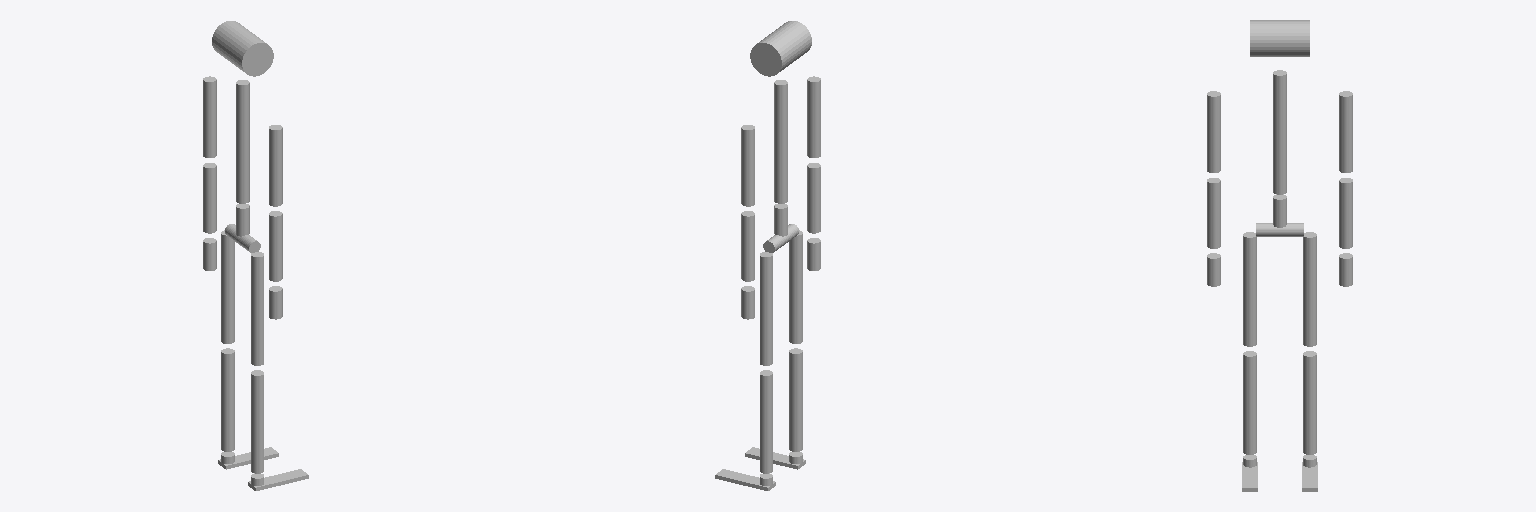
--- Render facts (derived) ---
Views: 3 orthographic renders of the robot side by side, from view 1: azimuth 30°, elevation 25°; view 2: azimuth 150°, elevation 25°; view 3: azimuth 270°, elevation 25°.
Robot: atlas — 36 links, 35 joints (27 revolute, 8 fixed); root link base_link; default pose: every joint at zero.
Visible links, largest first — view 1: NeckPitch_link, Torso, LHipRoll_link, RHipRoll_link, LKneePitch_link, RKneePitch_link, RShoulderRoll_link, LShoulderRoll_link, RElbowPitch_link, LElbowPitch_link, RFoot; view 2: NeckPitch_link, Torso, RHipRoll_link, LHipRoll_link, RKneePitch_link, LKneePitch_link, LShoulderRoll_link, RShoulderRoll_link, LElbowPitch_link, RElbowPitch_link, LFoot; view 3: NeckPitch_link, Torso, LHipRoll_link, RHipRoll_link, LKneePitch_link, RKneePitch_link, LShoulderRoll_link, RShoulderRoll_link, LElbowPitch_link, RElbowPitch_link, Pelvis-link2.
Boxes of the visible links, x1,y1,x2,y2 form: NeckPitch_link: (212, 21, 273, 76); Torso: (236, 80, 249, 203); LHipRoll_link: (221, 230, 234, 343); RHipRoll_link: (251, 252, 263, 365); LKneePitch_link: (221, 348, 234, 451); RKneePitch_link: (251, 370, 263, 473); RShoulderRoll_link: (269, 125, 282, 206); LShoulderRoll_link: (203, 76, 216, 157); RElbowPitch_link: (269, 211, 282, 281); LElbowPitch_link: (203, 163, 216, 233); RFoot: (248, 469, 308, 490); NeckPitch_link: (750, 21, 811, 76); Torso: (774, 80, 787, 203); RHipRoll_link: (789, 230, 802, 343); LHipRoll_link: (760, 252, 772, 365); RKneePitch_link: (789, 348, 802, 451); LKneePitch_link: (760, 370, 772, 473); LShoulderRoll_link: (741, 125, 754, 206); RShoulderRoll_link: (807, 76, 820, 157); LElbowPitch_link: (741, 211, 754, 281); RElbowPitch_link: (807, 163, 820, 233); LFoot: (715, 469, 775, 490); NeckPitch_link: (1250, 20, 1309, 56); Torso: (1273, 70, 1286, 194); LHipRoll_link: (1303, 232, 1316, 346); RHipRoll_link: (1243, 232, 1256, 346); LKneePitch_link: (1303, 351, 1316, 454); RKneePitch_link: (1243, 351, 1256, 454); LShoulderRoll_link: (1339, 91, 1352, 172); RShoulderRoll_link: (1207, 91, 1220, 172); LElbowPitch_link: (1339, 178, 1352, 248); RElbowPitch_link: (1207, 178, 1220, 248); Pelvis-link2: (1256, 223, 1303, 236).
Size in the robot's own frame: 0.2662 by 0.5321 by 1.79 metres.
Geometry: primitives only (box / cylinder / sphere), no mesh files.

The robot description file, URDF, robot "atlas":
<?xml version="1.0" ?>
<!-- =================================================================================== -->
<!-- |    This document was autogenerated by xacro from atlas_robot_pre_fuerte.urdf.xacro | -->
<!-- |    EDITING THIS FILE BY HAND IS NOT RECOMMENDED                                 | -->
<!-- =================================================================================== -->
<robot name="atlas" xmlns:controller="http://playerstage.sourceforge.net/gazebo/xmlschema/#controller" xmlns:interface="http://playerstage.sourceforge.net/gazebo/xmlschema/#interface" xmlns:sensor="http://playerstage.sourceforge.net/gazebo/xmlschema/#sensor" xmlns:xacro="http://ros.org/wiki/xacro">
  <!--
  ROS urdf definition of Atlas humanoid robot from Boston Dynamics. Represents the kinematic structure of the robot which is based on the 50th percentile male anthropometry,. 

This file has been based upon a similar urdf file for the Nao humanoid robot (by Aldebaran Robotics) provided in the Nao-Stack of University of Freiburg (Authors: Armin Hornung, Stefan Osswald) which is available at: is available at: http://code.google.com/p/alufr-ros-pkg/.

  Joint names and properties are according to the Boston Dynamics Slide during DRC proposers day talk.
  -->
  <material name="LightGrey">
    <color rgba="0.8 0.8 0.8 1.0"/>
  </material>
  <material name="Grey">
    <color rgba="0.6 0.6 0.6 1.0"/>
  </material>
  <material name="DarkGrey">
    <color rgba="0.3 0.3 0.3 1.0"/>
  </material>
  <material name="Black">
    <color rgba="0.1 0.1 0.1 1.0"/>
  </material>
  <link name="base_link">
    <inertial>
      <origin rpy="0 0 0" xyz="0 0 0"/>
      <mass value="0.01"/>
      <inertia ixx="0.0001" ixy="0.0" ixz="0.0" iyy="0.0001" iyz="0.0" izz="0.0001"/>
    </inertial>
  </link>
  <link name="Back">
    <inertial>
      <origin rpy="0 0 0" xyz="0 0 0"/>
      <mass value="0.01"/>
      <inertia ixx="0.0001" ixy="0.0" ixz="0.0" iyy="0.0001" iyz="0.0" izz="0.0001"/>
    </inertial>
  </link>
  <link name="Pelvis-link1">
    <inertial>
      <mass value="5.7"/>
      <inertia ixx="0.0335874956091" ixy="0.0" ixz="0.0" iyy="0.0261906364732" iyz="0.0" izz="0.0376870275877"/>
    </inertial>
    <visual>
      <origin rpy="0 0 0" xyz="0 0 -0.076245974"/>
      <geometry>
        <cylinder length="0.112491948" radius="0.025"/>
      </geometry>
      <material name="LightGrey"/>
    </visual>
    <collision>
      <origin rpy="0 0 0" xyz="0 0 -0.076245974"/>
      <geometry>
        <cylinder length="0.152491948" radius="0.025"/>
      </geometry>
    </collision>
  </link>
  <link name="Pelvis-link2">
    <inertial>
      <origin rpy="0 0 0" xyz="0 0 0"/>
      <mass value="0.01"/>
      <inertia ixx="0.0001" ixy="0.0" ixz="0.0" iyy="0.0001" iyz="0.0" izz="0.0001"/>
    </inertial>
    <visual>
      <origin rpy="1.57079632679 0 0" xyz="0 0 0"/>
      <geometry>
        <cylinder length="0.17784564" radius="0.025"/>
      </geometry>
      <material name="LightGrey"/>
    </visual>
    <collision>
      <origin rpy="1.57079632679 0 0" xyz="0 0 0"/>
      <geometry>
        <cylinder length="0.21784564" radius="0.025"/>
      </geometry>
    </collision>
  </link>
  <link name="BackYaw_link">
    <inertial>
      <origin rpy="0 0 0" xyz="0 0 0"/>
      <mass value="0.01"/>
      <inertia ixx="0.0001" ixy="0.0" ixz="0.0" iyy="0.0001" iyz="0.0" izz="0.0001"/>
    </inertial>
  </link>
  <link name="BackPitch_link">
    <inertial>
      <origin rpy="0 0 0" xyz="0 0 0"/>
      <mass value="0.01"/>
      <inertia ixx="0.0001" ixy="0.0" ixz="0.0" iyy="0.0001" iyz="0.0" izz="0.0001"/>
    </inertial>
  </link>
  <link name="BackRoll_link">
    <inertial>
      <origin rpy="0 0 0" xyz="0 0 0"/>
      <mass value="0.01"/>
      <inertia ixx="0.0001" ixy="0.0" ixz="0.0" iyy="0.0001" iyz="0.0" izz="0.0001"/>
    </inertial>
  </link>
  <link name="Torso">
    <!-- assuming the rotational inertia of the torso is of a cuboid -->
    <inertial>
      <mass value="19.267"/>
      <inertia ixx="0.769042349872" ixy="0.0" ixz="0.0" iyy="0.418881944536" iyz="0.0" izz="0.452546488768"/>
    </inertial>
    <visual>
      <origin rpy="0 0 0" xyz="0.0 0.0 0.23927308"/>
      <geometry>
        <cylinder length="0.47854616" radius="0.025"/>
      </geometry>
      <material name="LightGrey"/>
    </visual>
    <collision>
      <origin rpy="0 0 0" xyz="0.0 0.0 0.23927308"/>
      <geometry>
        <box size=" 0.178562 0.4999736 0.47854616"/>
      </geometry>
    </collision>
  </link>
  <link name="NeckYaw_link">
    <inertial>
      <origin rpy="0 0 0" xyz="0 0 0"/>
      <mass value="0.01"/>
      <inertia ixx="0.0001" ixy="0.0" ixz="0.0" iyy="0.0001" iyz="0.0" izz="0.0001"/>
    </inertial>
  </link>
  <link name="NeckPitch_link">
    <inertial>
      <mass value="1.8"/>
      <inertia ixx="0.0106054249402" ixy="0.0" ixz="0.0" iyy="0.0106054249402" iyz="0.0" izz="0.00403536783651"/>
    </inertial>
    <visual>
      <origin rpy="1.57079632679 0 0" xyz="0 0 0.13749274"/>
      <geometry>
        <cylinder length="0.22141688" radius="0.06696075"/>
        <!--  <sphere radius="${(l_head/2)*height}"/>-->
      </geometry>
      <material name="LightGrey"/>
    </visual>
    <collision>
      <origin rpy="1.57 0 0" xyz="0 0 0.13749274"/>
      <geometry>
        <cylinder length="0.23927308" radius="0.06696075"/>
      </geometry>
    </collision>
  </link>
  <link name="LShoulderYaw_link">
    <inertial>
      <origin rpy="0 0 0" xyz="0 0 0"/>
      <mass value="0.01"/>
      <inertia ixx="0.0001" ixy="0.0" ixz="0.0" iyy="0.0001" iyz="0.0" izz="0.0001"/>
    </inertial>
  </link>
  <link name="LShoulderPitch_link">
    <inertial>
      <origin rpy="0 0 0" xyz="0 0 0"/>
      <mass value="0.01"/>
      <inertia ixx="0.0001" ixy="0.0" ixz="0.0" iyy="0.0001" iyz="0.0" izz="0.0001"/>
    </inertial>
  </link>
  <link name="LShoulderRoll_link">
    <inertial>
      <mass value="4.91675"/>
      <inertia ixx="0.0500676407308" ixy="0.0" ixz="0.0" iyy="0.0500676407308" iyz="0.0" izz="0.00078383781966"/>
    </inertial>
    <visual>
      <origin rpy="0 0 0" xyz="0 0 -0.17409795"/>
      <geometry>
        <cylinder length="0.3081959" radius="0.025"/>
      </geometry>
      <material name="LightGrey"/>
    </visual>
    <collision>
      <origin rpy="0 0 0" xyz="0 0 -0.17409795"/>
      <geometry>
        <cylinder length="0.3481959" radius="0.025"/>
      </geometry>
    </collision>
  </link>
  <link name="LElbowPitch_link">
    <inertial>
      <mass value="4.91675"/>
      <inertia ixx="0.0381467738901" ixy="0.0" ixz="0.0" iyy="0.0381467738901" iyz="0.0" izz="0.00078383781966"/>
    </inertial>
    <visual>
      <origin rpy="0 0 0" xyz="0 0 -0.1517777"/>
      <geometry>
        <cylinder length="0.2635554" radius="0.025"/>
      </geometry>
      <material name="LightGrey"/>
    </visual>
    <collision>
      <origin rpy="0 0 0" xyz="0 0 -0.1517777"/>
      <geometry>
        <cylinder length="0.3035554" radius="0.025"/>
      </geometry>
    </collision>
  </link>
  <link name="LWristYaw_link">
    <inertial>
      <origin rpy="0 0 0" xyz="0 0 0"/>
      <mass value="0.01"/>
      <inertia ixx="0.0001" ixy="0.0" ixz="0.0" iyy="0.0001" iyz="0.0" izz="0.0001"/>
    </inertial>
  </link>
  <link name="LWristRoll_link">
    <inertial>
      <mass value="0.01"/>
      <inertia ixx="2.01752715335e-05" ixy="0.0" ixz="0.0" iyy="2.01752715335e-05" iyz="0.0" izz="1.5942193922e-06"/>
    </inertial>
    <visual>
      <origin rpy="0 0 0" xyz="0 0 -0.076245974"/>
      <geometry>
        <cylinder length="0.112491948" radius="0.025"/>
      </geometry>
      <material name="LightGrey"/>
    </visual>
    <collision>
      <origin rpy="0 0 0" xyz="0 0 -0.076245974"/>
      <geometry>
        <cylinder length="0.152491948" radius="0.025"/>
      </geometry>
    </collision>
  </link>
  <link name="RShoulderYaw_link">
    <inertial>
      <origin rpy="0 0 0" xyz="0 0 0"/>
      <mass value="0.01"/>
      <inertia ixx="0.0001" ixy="0.0" ixz="0.0" iyy="0.0001" iyz="0.0" izz="0.0001"/>
    </inertial>
  </link>
  <link name="RShoulderPitch_link">
    <inertial>
      <origin rpy="0 0 0" xyz="0 0 0"/>
      <mass value="0.01"/>
      <inertia ixx="0.0001" ixy="0.0" ixz="0.0" iyy="0.0001" iyz="0.0" izz="0.0001"/>
    </inertial>
  </link>
  <link name="RShoulderRoll_link">
    <inertial>
      <mass value="4.91675"/>
      <inertia ixx="0.0500676407308" ixy="0.0" ixz="0.0" iyy="0.0500676407308" iyz="0.0" izz="0.00078383781966"/>
    </inertial>
    <visual>
      <origin rpy="0 0 0" xyz="0 0 -0.17409795"/>
      <geometry>
        <cylinder length="0.3081959" radius="0.025"/>
      </geometry>
      <material name="LightGrey"/>
    </visual>
    <collision>
      <origin rpy="0 0 0" xyz="0 0 -0.17409795"/>
      <geometry>
        <cylinder length="0.3481959" radius="0.025"/>
      </geometry>
    </collision>
  </link>
  <link name="RElbowPitch_link">
    <inertial>
      <mass value="4.91675"/>
      <inertia ixx="0.0381467738901" ixy="0.0" ixz="0.0" iyy="0.0381467738901" iyz="0.0" izz="0.00078383781966"/>
    </inertial>
    <visual>
      <origin rpy="0 0 0" xyz="0 0 -0.1517777"/>
      <geometry>
        <cylinder length="0.2635554" radius="0.025"/>
      </geometry>
      <material name="LightGrey"/>
    </visual>
    <collision>
      <origin rpy="0 0 0" xyz="0 0 -0.1517777"/>
      <geometry>
        <cylinder length="0.3035554" radius="0.025"/>
      </geometry>
    </collision>
  </link>
  <link name="RWristYaw_link">
    <inertial>
      <origin rpy="0 0 0" xyz="0 0 0"/>
      <mass value="0.01"/>
      <inertia ixx="0.0001" ixy="0.0" ixz="0.0" iyy="0.0001" iyz="0.0" izz="0.0001"/>
    </inertial>
  </link>
  <link name="RWristRoll_link">
    <inertial>
      <mass value="0.01"/>
      <inertia ixx="2.01752715335e-05" ixy="0.0" ixz="0.0" iyy="2.01752715335e-05" iyz="0.0" izz="1.5942193922e-06"/>
    </inertial>
    <visual>
      <origin rpy="0 0 0" xyz="0 0 -0.076245974"/>
      <geometry>
        <cylinder length="0.112491948" radius="0.025"/>
      </geometry>
      <material name="LightGrey"/>
    </visual>
    <collision>
      <origin rpy="0 0 0" xyz="0 0 -0.076245974"/>
      <geometry>
        <cylinder length="0.152491948" radius="0.025"/>
      </geometry>
    </collision>
  </link>
  <link name="LHipYaw_link">
    <inertial>
      <origin rpy="0 0 0" xyz="0 0 0"/>
      <mass value="0.01"/>
      <inertia ixx="0.0001" ixy="0.0" ixz="0.0" iyy="0.0001" iyz="0.0" izz="0.0001"/>
    </inertial>
  </link>
  <link name="LHipPitch_link">
    <inertial>
      <origin rpy="0 0 0" xyz="0 0 0"/>
      <mass value="0.01"/>
      <inertia ixx="0.0001" ixy="0.0" ixz="0.0" iyy="0.0001" iyz="0.0" izz="0.0001"/>
    </inertial>
  </link>
  <link name="LHipRoll_link">
    <inertial>
      <mass value="7.61675"/>
      <inertia ixx="0.145964197258" ixy="0.0" ixz="0.0" iyy="0.145964197258" iyz="0.0" izz="0.00121427705555"/>
    </inertial>
    <visual>
      <origin rpy="0 0 0" xyz="0.0 0.0 -0.23927308"/>
      <geometry>
        <cylinder length="0.43854616" radius="0.025"/>
      </geometry>
      <material name="LightGrey"/>
    </visual>
    <collision>
      <origin rpy="0 0 0" xyz="0.0 0.0 -0.23927308"/>
      <geometry>
        <cylinder length="0.47854616" radius="0.025"/>
      </geometry>
    </collision>
  </link>
  <link name="LKneePitch_link">
    <inertial>
      <mass value="7.61675"/>
      <inertia ixx="0.12109580316" ixy="0.0" ixz="0.0" iyy="0.12109580316" iyz="0.0" izz="0.00121427705555"/>
    </inertial>
    <visual>
      <origin rpy="0 0 0" xyz="0 0 -0.21784564"/>
      <geometry>
        <cylinder length="0.39569128" radius="0.025"/>
      </geometry>
      <material name="LightGrey"/>
    </visual>
    <collision>
      <origin rpy="0 0 0" xyz="0 0 -0.21784564"/>
      <geometry>
        <cylinder length="0.43569128" radius="0.025"/>
      </geometry>
    </collision>
  </link>
  <link name="LAnklePitch_link">
    <inertial>
      <origin rpy="0 0 0" xyz="0 0 0"/>
      <mass value="0.01"/>
      <inertia ixx="0.0001" ixy="0.0" ixz="0.0" iyy="0.0001" iyz="0.0" izz="0.0001"/>
    </inertial>
    <visual>
      <origin rpy="0 0 0" xyz="0 0 -0.021695283"/>
      <geometry>
        <cylinder length="0.043390566" radius="0.025"/>
      </geometry>
      <material name="LightGrey"/>
    </visual>
    <collision>
      <origin rpy="0 0 0" xyz="0 0 -0.021695283"/>
      <geometry>
        <cylinder length="0.043390566" radius="0.025"/>
      </geometry>
    </collision>
  </link>
  <link name="LAnkle">
    <inertial>
      <origin rpy="0 0 0" xyz="0 0 0"/>
      <mass value="0.01"/>
      <inertia ixx="0.0001" ixy="0.0" ixz="0.0" iyy="0.0001" iyz="0.0" izz="0.0001"/>
    </inertial>
  </link>
  <link name="LFoot">
    <inertial>
      <mass value="2.0"/>
      <inertia ixx="0.0006375" ixy="0.0" ixz="0.0" iyy="0.00509955043915" iyz="0.0" izz="0.00566205043915"/>
    </inertial>
    <visual>
      <origin rpy="0 0 0" xyz="0.087138256 0 0.0075"/>
      <geometry>
        <box size="0.224276512 0.06 0.015"/>
      </geometry>
      <material name="LightGrey"/>
    </visual>
    <collision>
      <origin rpy="0 0 0" xyz="0.087138256 0 0.0075"/>
      <geometry>
        <box size="0.224276512 0.06 0.015"/>
      </geometry>
    </collision>
  </link>
  <link name="RHipYaw_link">
    <inertial>
      <origin rpy="0 0 0" xyz="0 0 0"/>
      <mass value="0.01"/>
      <inertia ixx="0.0001" ixy="0.0" ixz="0.0" iyy="0.0001" iyz="0.0" izz="0.0001"/>
    </inertial>
  </link>
  <link name="RHipPitch_link">
    <inertial>
      <origin rpy="0 0 0" xyz="0 0 0"/>
      <mass value="0.01"/>
      <inertia ixx="0.0001" ixy="0.0" ixz="0.0" iyy="0.0001" iyz="0.0" izz="0.0001"/>
    </inertial>
  </link>
  <link name="RHipRoll_link">
    <inertial>
      <mass value="7.61675"/>
      <inertia ixx="0.145964197258" ixy="0.0" ixz="0.0" iyy="0.145964197258" iyz="0.0" izz="0.00121427705555"/>
    </inertial>
    <visual>
      <origin rpy="0 0 0" xyz="0.0 0.0 -0.23927308"/>
      <geometry>
        <cylinder length="0.43854616" radius="0.025"/>
      </geometry>
      <material name="LightGrey"/>
    </visual>
    <collision>
      <origin rpy="0 0 0" xyz="0.0 0.0 -0.23927308"/>
      <geometry>
        <cylinder length="0.47854616" radius="0.025"/>
      </geometry>
    </collision>
  </link>
  <link name="RKneePitch_link">
    <inertial>
      <mass value="7.61675"/>
      <inertia ixx="0.12109580316" ixy="0.0" ixz="0.0" iyy="0.12109580316" iyz="0.0" izz="0.00121427705555"/>
    </inertial>
    <visual>
      <origin rpy="0 0 0" xyz="0 0 -0.21784564"/>
      <geometry>
        <cylinder length="0.39569128" radius="0.025"/>
      </geometry>
      <material name="LightGrey"/>
    </visual>
    <collision>
      <origin rpy="0 0 0" xyz="0 0 -0.21784564"/>
      <geometry>
        <cylinder length="0.43569128" radius="0.025"/>
      </geometry>
    </collision>
  </link>
  <link name="RAnklePitch_link">
    <inertial>
      <origin rpy="0 0 0" xyz="0 0 0"/>
      <mass value="0.01"/>
      <inertia ixx="0.0001" ixy="0.0" ixz="0.0" iyy="0.0001" iyz="0.0" izz="0.0001"/>
    </inertial>
    <visual>
      <origin rpy="0 0 0" xyz="0 0 -0.021695283"/>
      <geometry>
        <cylinder length="0.043390566" radius="0.025"/>
      </geometry>
      <material name="LightGrey"/>
    </visual>
    <collision>
      <origin rpy="0 0 0" xyz="0 0 -0.021695283"/>
      <geometry>
        <cylinder length="0.043390566" radius="0.025"/>
      </geometry>
    </collision>
  </link>
  <link name="RAnkle">
    <inertial>
      <origin rpy="0 0 0" xyz="0 0 0"/>
      <mass value="0.01"/>
      <inertia ixx="0.0001" ixy="0.0" ixz="0.0" iyy="0.0001" iyz="0.0" izz="0.0001"/>
    </inertial>
  </link>
  <link name="RFoot">
    <inertial>
      <mass value="2.0"/>
      <inertia ixx="0.0006375" ixy="0.0" ixz="0.0" iyy="0.00509955043915" iyz="0.0" izz="0.00566205043915"/>
    </inertial>
    <visual>
      <origin rpy="0 0 0" xyz="0.087138256 0 0.0075"/>
      <geometry>
        <box size="0.224276512 0.06 0.015"/>
      </geometry>
      <material name="LightGrey"/>
    </visual>
    <collision>
      <origin rpy="0 0 0" xyz="0.087138256 0 0.0075"/>
      <geometry>
        <box size="0.224276512 0.06 0.015"/>
      </geometry>
    </collision>
  </link>
  <joint name="base_joint" type="fixed">
    <child link="Back"/>
    <parent link="base_link"/>
    <origin rpy="0 0 0" xyz="0 0 0"/>
  </joint>
  <joint name="BackYaw" type="revolute">
    <parent link="Back"/>
    <child link="BackYaw_link"/>
    <origin rpy="0 0 0" xyz="0 0 0.0"/>
    <axis xyz="0 0 1"/>
    <limit effort="30" lower="-0.78539816295" upper="0.78539816295" velocity="3.0"/>
  </joint>
  <joint name="BackPitch" type="revolute">
    <parent link="BackYaw_link"/>
    <child link="BackPitch_link"/>
    <origin rpy="0 0 0" xyz="0 0 0"/>
    <axis xyz="0 1 0"/>
    <limit effort="30" lower="-0.61086523785" upper="0.43633231275" velocity="3.0"/>
  </joint>
  <joint name="BackRoll" type="revolute">
    <parent link="BackPitch_link"/>
    <child link="BackRoll_link"/>
    <origin rpy="0 0 0" xyz="0 0 0"/>
    <axis xyz="1 0 0"/>
    <limit effort="30" lower="-0.6981317004" upper="0.6981317004" velocity="3.0"/>
  </joint>
  <joint name="BackRoll_Torso_joint" type="fixed">
    <child link="Torso"/>
    <parent link="BackRoll_link"/>
    <origin rpy="0 0 0" xyz="0 0 0"/>
  </joint>
  <joint name="NeckYaw" type="revolute">
    <parent link="Torso"/>
    <child link="NeckYaw_link"/>
    <origin rpy="0 0 0" xyz="0 0 0.47854616"/>
    <axis xyz="0 0 1"/>
    <limit effort="30" lower="-1.5707963259" upper="1.5707963259" velocity="3.0"/>
  </joint>
  <joint name="NeckPitch" type="revolute">
    <parent link="NeckYaw_link"/>
    <child link="NeckPitch_link"/>
    <origin rpy="0 0 0" xyz="0 0 0"/>
    <axis xyz="0 1 0"/>
    <limit effort="30" lower="-0.78539816295" upper="0.78539816295" velocity="3.0"/>
  </joint>
  <joint name="LShoulderRoll" type="revolute">
    <parent link="LShoulderPitch_link"/>
    <child link="LShoulderRoll_link"/>
    <origin rpy="0 0 0" xyz="0 0 0"/>
    <axis xyz="1 0 0"/>
    <limit effort="30" lower="0.0" upper="2.00712863865" velocity="3.0"/>
  </joint>
  <joint name="RShoulderRoll" type="revolute">
    <parent link="RShoulderPitch_link"/>
    <child link="RShoulderRoll_link"/>
    <origin rpy="0 0 0" xyz="0 0 0"/>
    <axis xyz="1 0 0"/>
    <limit effort="30" lower="-2.00712863865" upper="-0.0" velocity="3.0"/>
  </joint>
  <joint name="LShoulderYaw" type="revolute">
    <parent link="BackRoll_link"/>
    <child link="LShoulderYaw_link"/>
    <origin rpy="0 0 0" xyz="0 0.2410587 0.41426384"/>
    <axis xyz="0 0 1"/>
    <limit effort="30" lower="-0.6981317004" upper="1.745329251" velocity="3.0"/>
  </joint>
  <joint name="LShoulderPitch" type="revolute">
    <parent link="LShoulderYaw_link"/>
    <child link="LShoulderPitch_link"/>
    <origin rpy="0 0 0" xyz="0 0 0"/>
    <axis xyz="0 1 0"/>
    <limit effort="30" lower="-1.5707963259" upper="0.8726646255" velocity="3.0"/>
  </joint>
  <joint name="LElbowPitch" type="revolute">
    <parent link="LShoulderRoll_link"/>
    <child link="LElbowPitch_link"/>
    <origin rpy="0 0 0" xyz="0 0 -0.3481959"/>
    <axis xyz="0 1 0"/>
    <limit effort="30" lower="-2.35619448885" upper="0.0" velocity="3.0"/>
  </joint>
  <joint name="LWristYaw" type="revolute">
    <parent link="LElbowPitch_link"/>
    <child link="LWristYaw_link"/>
    <origin rpy="0 0 0" xyz="0 0 -0.3035554"/>
    <axis xyz="0 0 1"/>
    <limit effort="30" lower="-1.48352986335" upper="1.48352986335" velocity="3.0"/>
  </joint>
  <joint name="RShoulderYaw" type="revolute">
    <parent link="BackRoll_link"/>
    <child link="RShoulderYaw_link"/>
    <origin rpy="0 0 0" xyz="0 -0.2410587 0.41426384"/>
    <axis xyz="0 0 1"/>
    <limit effort="30" lower="-0.6981317004" upper="1.745329251" velocity="3.0"/>
  </joint>
  <joint name="RShoulderPitch" type="revolute">
    <parent link="RShoulderYaw_link"/>
    <child link="RShoulderPitch_link"/>
    <origin rpy="0 0 0" xyz="0 0 0"/>
    <axis xyz="0 1 0"/>
    <limit effort="30" lower="-1.5707963259" upper="0.8726646255" velocity="3.0"/>
  </joint>
  <joint name="RElbowPitch" type="revolute">
    <parent link="RShoulderRoll_link"/>
    <child link="RElbowPitch_link"/>
    <origin rpy="0 0 0" xyz="0 0 -0.3481959"/>
    <axis xyz="0 1 0"/>
    <limit effort="30" lower="-2.35619448885" upper="0.0" velocity="3.0"/>
  </joint>
  <joint name="RWristYaw" type="revolute">
    <parent link="RElbowPitch_link"/>
    <child link="RWristYaw_link"/>
    <origin rpy="0 0 0" xyz="0 0 -0.3035554"/>
    <axis xyz="0 0 1"/>
    <limit effort="30" lower="-1.48352986335" upper="1.48352986335" velocity="3.0"/>
  </joint>
  <joint name="LWristRoll" type="revolute">
    <parent link="LWristYaw_link"/>
    <child link="LWristRoll_link"/>
    <origin rpy="0 0 0" xyz="0 0 0"/>
    <axis xyz="1 0 0"/>
    <limit effort="30" lower="-0.5235987753" upper="1.0471975506" velocity="3.0"/>
  </joint>
  <joint name="RWristRoll" type="revolute">
    <parent link="RWristYaw_link"/>
    <child link="RWristRoll_link"/>
    <origin rpy="0 0 0" xyz="0 0 0"/>
    <axis xyz="1 0 0"/>
    <limit effort="30" lower="-1.0471975506" upper="0.5235987753" velocity="3.0"/>
  </joint>
  <joint name="Back_Pelvis_Joint" type="fixed">
    <parent link="Back"/>
    <child link="Pelvis-link1"/>
    <origin rpy="0 0 0" xyz="0 0 0"/>
  </joint>
  <joint name="Mid_Pelvis_Joint" type="fixed">
    <parent link="Pelvis-link1"/>
    <child link="Pelvis-link2"/>
    <origin rpy="0 0 0" xyz="0 0 -0.152491948"/>
  </joint>
  <joint name="LHipYaw" type="revolute">
    <parent link="Pelvis-link2"/>
    <child link="LHipYaw_link"/>
    <origin rpy="0 0 0" xyz="0 0.10892282 0"/>
    <axis xyz="0 0 1"/>
    <limit effort="30" lower="-0.1745329251" upper="1.2217304757" velocity="3.0"/>
  </joint>
  <joint name="RHipYaw" type="revolute">
    <parent link="Pelvis-link2"/>
    <child link="RHipYaw_link"/>
    <origin rpy="0 0 0" xyz="0 -0.10892282 0"/>
    <axis xyz="0 0 1"/>
    <limit effort="30" lower="-1.2217304757" upper="0.1745329251" velocity="3.0"/>
  </joint>
  <joint name="LHipPitch" type="revolute">
    <parent link="LHipYaw_link"/>
    <child link="LHipPitch_link"/>
    <origin rpy="0 0 0" xyz="0 0 0"/>
    <axis xyz="0 1 0"/>
    <limit effort="30" lower="-1.745329251" upper="0.3490658502" velocity="3.0"/>
  </joint>
  <joint name="LHipRoll" type="revolute">
    <parent link="LHipPitch_link"/>
    <child link="LHipRoll_link"/>
    <origin rpy="0 0 0" xyz="0 0 0"/>
    <axis xyz="1 0 0"/>
    <limit effort="30" lower="-0.3490658502" upper="0.3490658502" velocity="3.0"/>
  </joint>
  <joint name="LKneePitch" type="revolute">
    <parent link="LHipRoll_link"/>
    <child link="LKneePitch_link"/>
    <origin rpy="0 0 0" xyz="0 0 -0.47854616"/>
    <axis xyz="0 1 0"/>
    <limit effort="30" lower="0.0" upper="2.35619448885" velocity="3.0"/>
  </joint>
  <joint name="LAnklePitch" type="revolute">
    <parent link="LKneePitch_link"/>
    <child link="LAnklePitch_link"/>
    <origin rpy="0 0 0" xyz="0 0 -0.43569128"/>
    <axis xyz="0 1 0"/>
    <limit effort="30" lower="-0.6981317004" upper="0.6981317004" velocity="3.0"/>
  </joint>
  <joint name="LAnkle_joint" type="fixed">
    <parent link="LAnklePitch_link"/>
    <child link="LAnkle"/>
    <origin xyz="0 0 0"/>
  </joint>
  <joint name="LFoot_joint" type="fixed">
    <parent link="LAnkle"/>
    <child link="LFoot"/>
    <origin xyz="0 0 -0.04519"/>
  </joint>
  <joint name="RHipPitch" type="revolute">
    <parent link="RHipYaw_link"/>
    <child link="RHipPitch_link"/>
    <origin rpy="0 0 0" xyz="0 0 0"/>
    <axis xyz="0 1 0"/>
    <limit effort="30" lower="-1.745329251" upper="0.3490658502" velocity="3.0"/>
  </joint>
  <joint name="RHipRoll" type="revolute">
    <parent link="RHipPitch_link"/>
    <child link="RHipRoll_link"/>
    <origin rpy="0 0 0" xyz="0 0 0"/>
    <axis xyz="1 0 0"/>
    <limit effort="30" lower="-0.3490658502" upper="0.3490658502" velocity="3.0"/>
  </joint>
  <joint name="RKneePitch" type="revolute">
    <parent link="RHipRoll_link"/>
    <child link="RKneePitch_link"/>
    <origin rpy="0 0 0" xyz="0 0 -0.47854616"/>
    <axis xyz="0 1 0"/>
    <limit effort="30" lower="0.0" upper="2.35619448885" velocity="3.0"/>
  </joint>
  <joint name="RAnklePitch" type="revolute">
    <parent link="RKneePitch_link"/>
    <child link="RAnklePitch_link"/>
    <origin rpy="0 0 0" xyz="0 0 -0.43569128"/>
    <axis xyz="0 1 0"/>
    <limit effort="30" lower="-0.6981317004" upper="0.6981317004" velocity="3.0"/>
  </joint>
  <joint name="RAnkle_joint" type="fixed">
    <parent link="RAnklePitch_link"/>
    <child link="RAnkle"/>
    <origin xyz="0 0 0"/>
  </joint>
  <joint name="RFoot_joint" type="fixed">
    <parent link="RAnkle"/>
    <child link="RFoot"/>
    <origin xyz="0 0 -0.04519"/>
  </joint>
  <gazebo>
    <!-- 
            <controller:gazebo_ros_p3d name="p3d_base_controller" plugin="libgazebo_ros_p3d.so">
                <alwaysOn>true</alwaysOn>
                <updateRate>100.0</updateRate>
                <bodyName>base_link</bodyName>
                <topicName>base_pose_ground_truth</topicName>
                <gaussianNoise>0.01</gaussianNoise>
                <frameName>map</frameName>
                <xyzOffsets>0 0 0</xyzOffsets> 
                <rpyOffsets>0 0 0</rpyOffsets>
                <interface:position name="p3d_base_position"/>
            </controller:gazebo_ros_p3d>-->
    <!-- this publishes empty joint_states due to no transmission, but
             triggering robot_state_publisher to publish tf between fixed joints in erratic,
             (e.g. base_laser_link for the base_scan frame) -->
    <!--   <controller:gazebo_ros_controller_manager name="gazebo_ros_controller_manager" plugin="libgazebo_ros_controller_manager.so">
                <alwaysOn>true</alwaysOn>
                <updateRate>100.0</updateRate>
                <interface:audio name="gazebo_ros_controller_manager_dummy_iface" />
            </controller:gazebo_ros_controller_manager>-->
    <controller:gazebo_ros_pub_robot_state name="gazebo_ros_pub_robot_controller" plugin="libgazebo_ros_pub_robot_state_pre_fuerte.so">
      <alwaysOn>true</alwaysOn>
      <updateRate>100.0</updateRate>
      <topicName>true_robot_state</topicName>
    </controller:gazebo_ros_pub_robot_state>
  </gazebo>
</robot>
